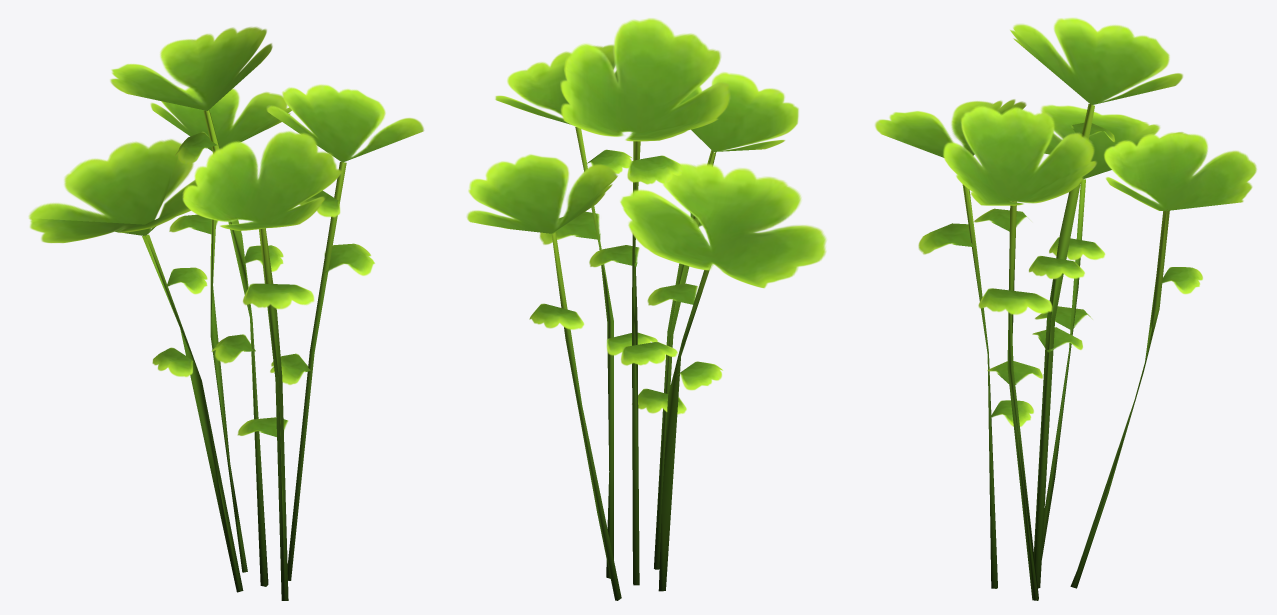
File: nature_plants.glb
The picture shows the model from 3 angles, left to right: view 1: azimuth 30°, elevation 25°; view 2: azimuth 150°, elevation 25°; view 3: azimuth 270°, elevation 25°; orthographic projection. The views are drawn at different scales.
Visible parts, largest first — view 1: Clover_2; view 2: Clover_2; view 3: Clover_2.
Part boxes in pixels (x1,y1,x2,y2): Clover_2: (28, 27, 423, 600); Clover_2: (466, 18, 826, 600); Clover_2: (875, 18, 1256, 600).
Bounding box in the file's own units: 0.8512 × 1.26 × 0.8367.
Materials: 1 (1 with a texture image).
